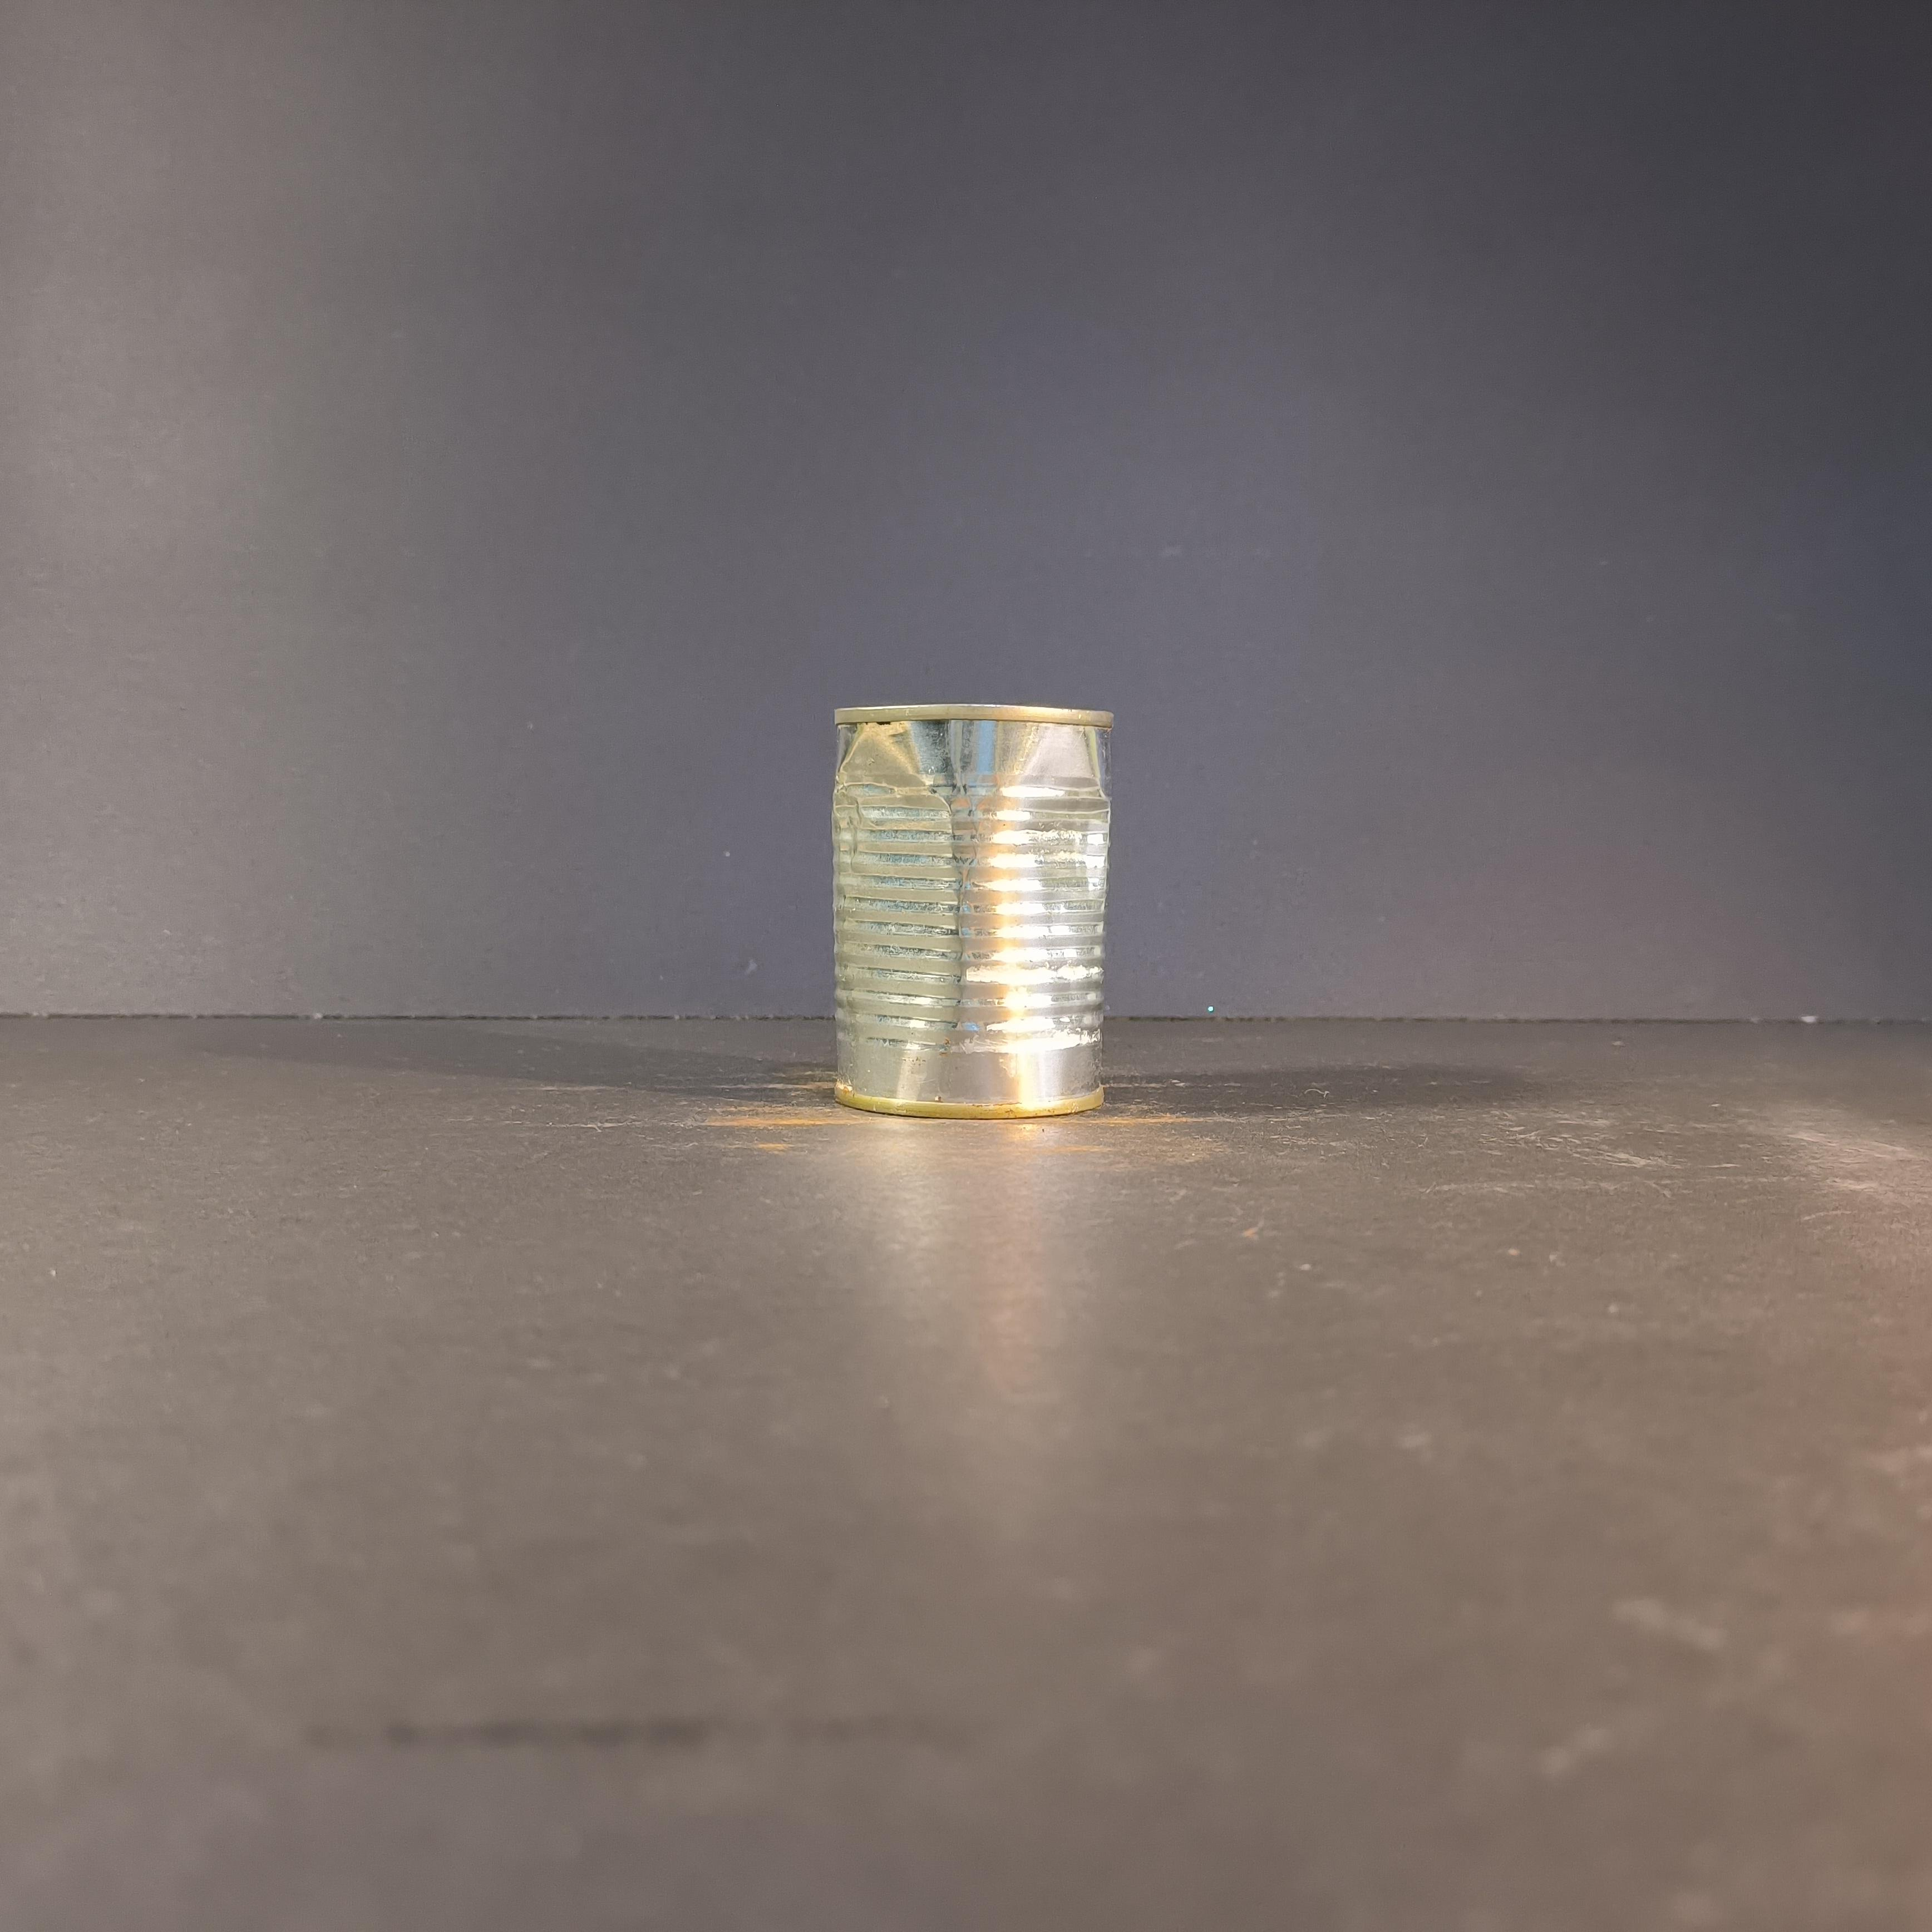Minor Defect: (832, 704, 1113, 1120)
